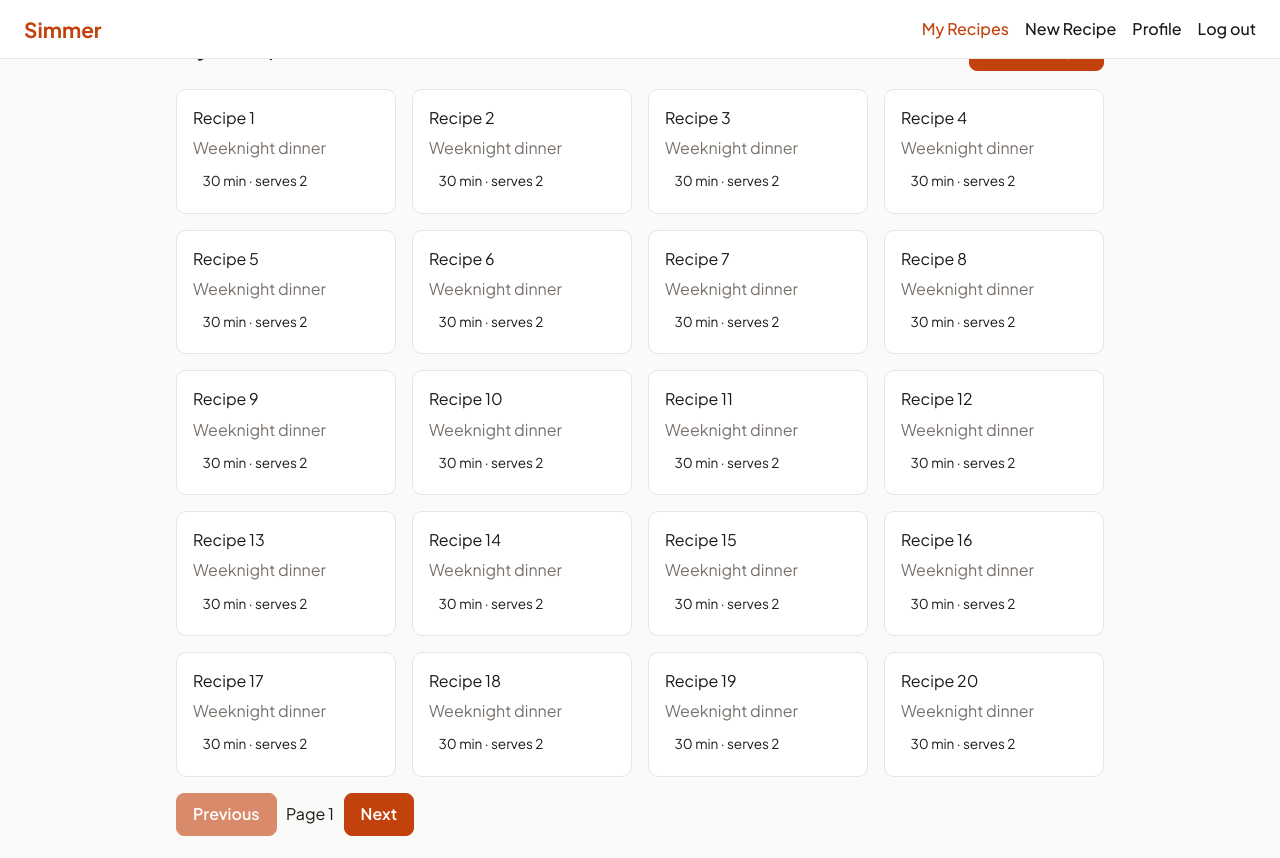
Test: profiles and recipes › paginates the personal library
(page scrolled)
Click the button "Next" at (379, 814), box 344,793 -> 414,836
(page scrolled)
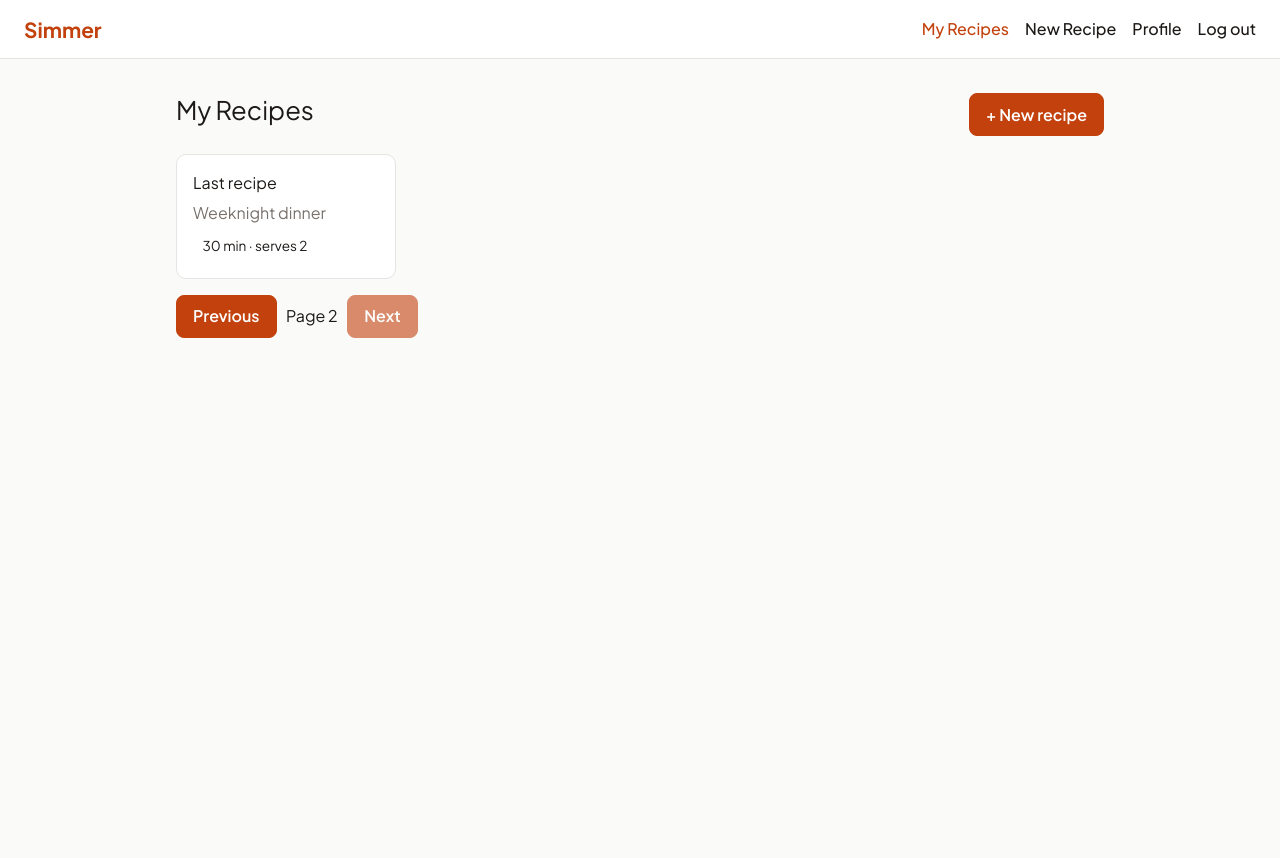
Now the heading "Last recipe" is shown, box 193,172 -> 277,193
Now the button "Next" is disabled, box 347,294 -> 418,338
Click the button "Previous" at (226, 316), box 176,294 -> 276,338
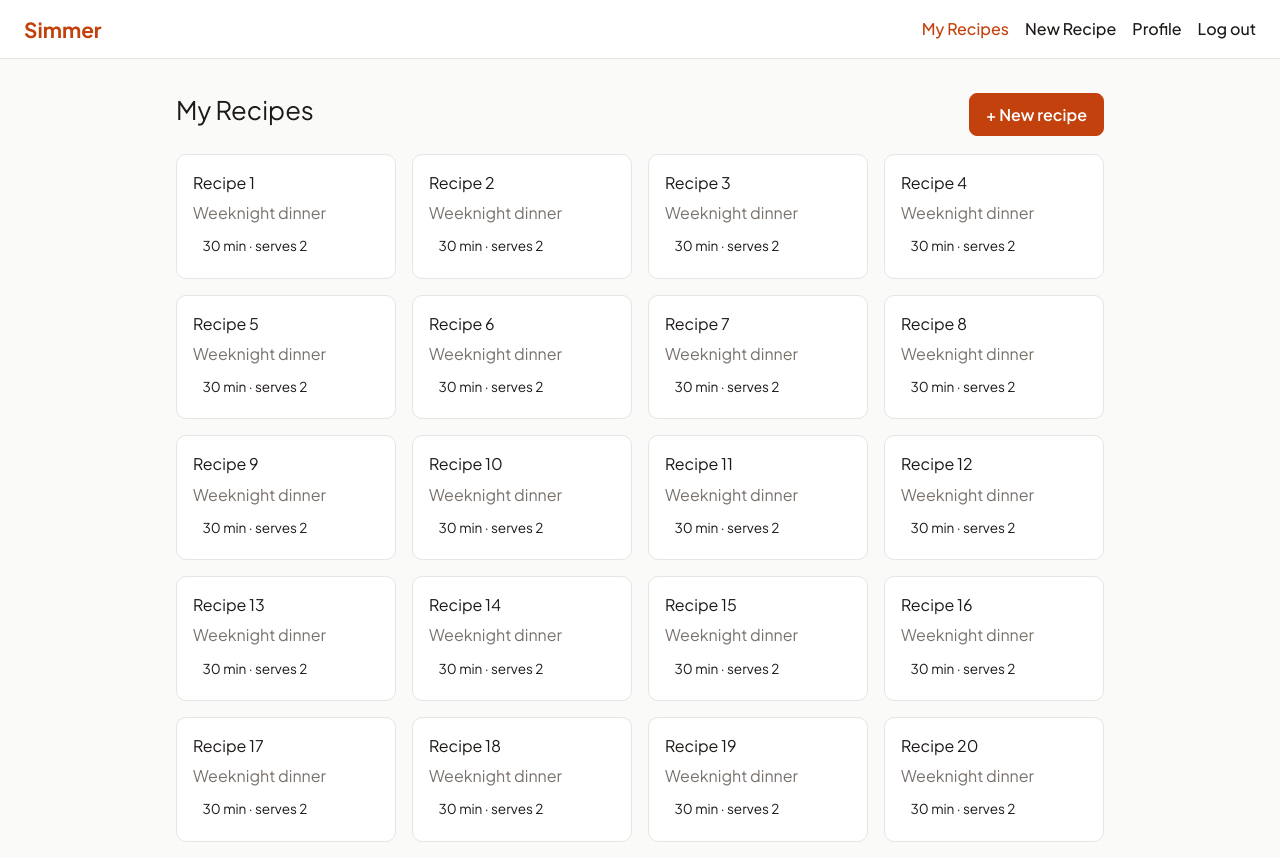
Now the heading "Recipe 1" is shown, box 193,172 -> 255,193
